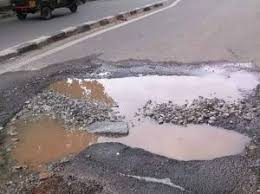potholes: (17, 60, 260, 189)
